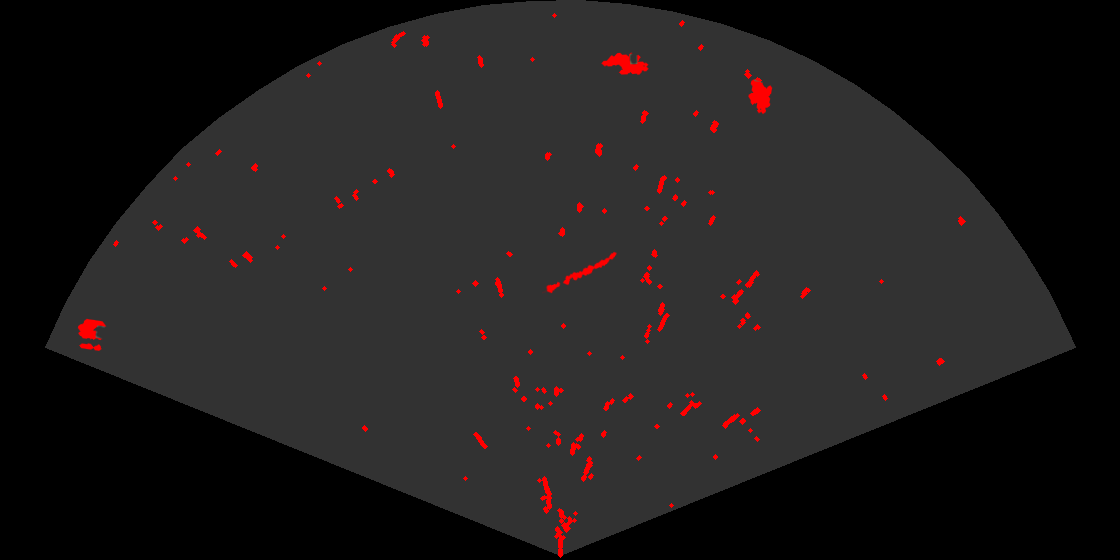AUV: (600, 51, 650, 76), (747, 78, 774, 116)
ball: (76, 317, 108, 353)
chain: (542, 250, 619, 295)
